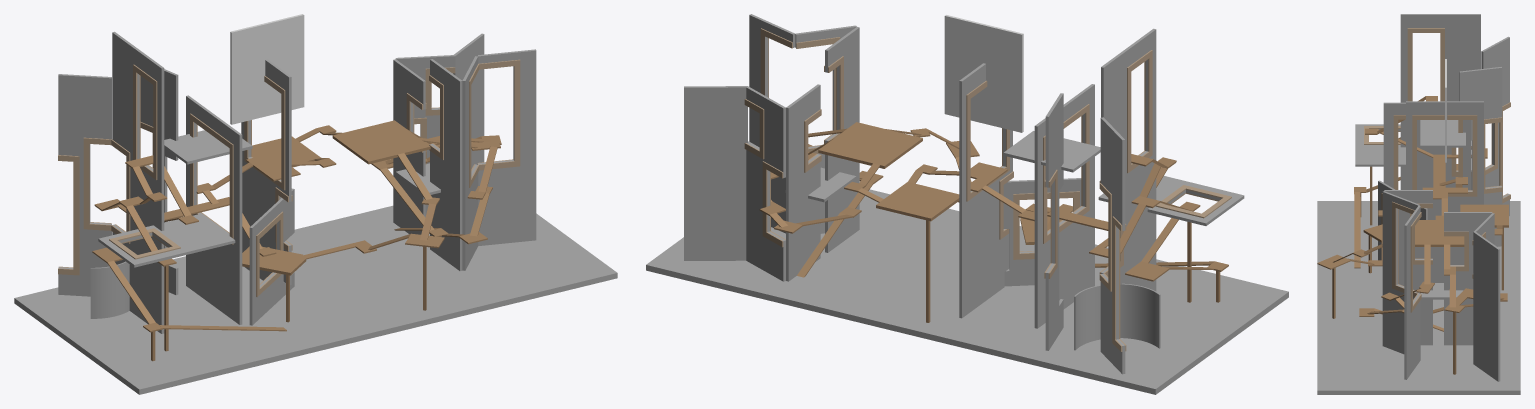
The picture shows the model from 3 angles, left to right: view 1: azimuth 30°, elevation 25°; view 2: azimuth 150°, elevation 25°; view 3: azimuth 270°, elevation 25°; orthographic projection. The views are drawn at different scales.
Visible parts, largest first — view 1: 01 DIZUO, 06 KAO, 09 YA, 02 JIE, 03 DING, 07 XUAN, 08 CHUI, 05AN, 04 ZHUAN; view 2: 01 DIZUO, 06 KAO, 09 YA, 05AN, 03 DING, 07 XUAN, 04 ZHUAN, 02 JIE, 08 CHUI; view 3: 01 DIZUO, 06 KAO, 03 DING, 02 JIE, 09 YA, 05AN, 07 XUAN, 08 CHUI, 04 ZHUAN.
Boxes of the visible parts, x1,y1,x2,y2 form: 01 DIZUO: [14, 120, 617, 394]; 06 KAO: [58, 31, 235, 333]; 09 YA: [230, 14, 304, 285]; 02 JIE: [462, 49, 536, 270]; 03 DING: [393, 59, 462, 270]; 07 XUAN: [164, 95, 252, 324]; 08 CHUI: [249, 188, 294, 325]; 05AN: [453, 33, 484, 168]; 04 ZHUAN: [395, 55, 455, 215]; 01 DIZUO: [646, 122, 1288, 394]; 06 KAO: [1044, 28, 1244, 374]; 09 YA: [944, 15, 1023, 318]; 05AN: [684, 86, 747, 260]; 03 DING: [785, 27, 859, 281]; 07 XUAN: [1003, 84, 1100, 328]; 04 ZHUAN: [744, 86, 785, 281]; 02 JIE: [749, 14, 856, 233]; 08 CHUI: [1003, 178, 1081, 286]; 01 DIZUO: [1317, 96, 1520, 394]; 06 KAO: [1355, 14, 1510, 246]; 03 DING: [1384, 190, 1492, 345]; 02 JIE: [1382, 191, 1421, 379]; 09 YA: [1406, 59, 1483, 282]; 05AN: [1473, 232, 1500, 381]; 07 XUAN: [1383, 102, 1471, 190]; 08 CHUI: [1378, 180, 1427, 260]; 04 ZHUAN: [1472, 213, 1494, 278].
Size of the model in its own units: 9.23 by 5 by 4.18.
